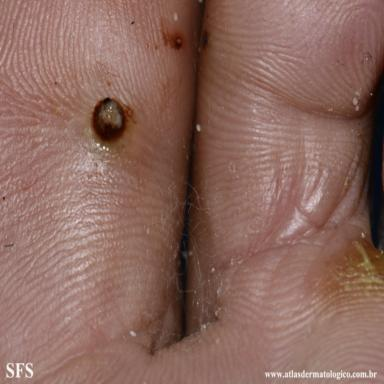Tungiasis: (92, 98, 133, 146)
